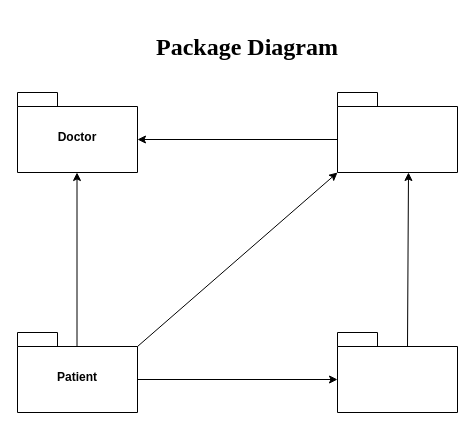
Some shapes in this 475 by 430 pixel diagram are drawn without their labels. Each missing label, with the centre of its shape:
"Nurse" belongs at point 397,372.
"Receptionist" belongs at point 397,132.
